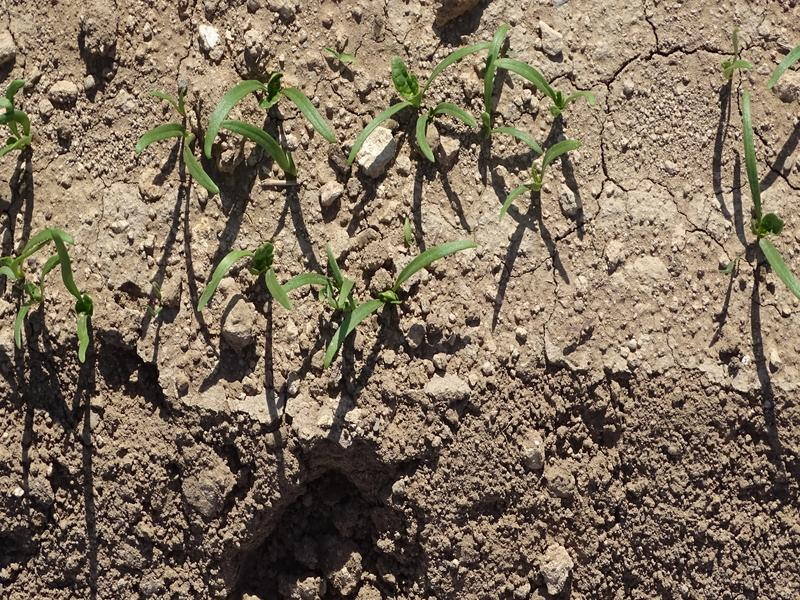Espinaca: (361, 34, 574, 202), (199, 237, 481, 360), (147, 73, 333, 204), (719, 46, 800, 293), (1, 219, 101, 356), (1, 80, 36, 159)
